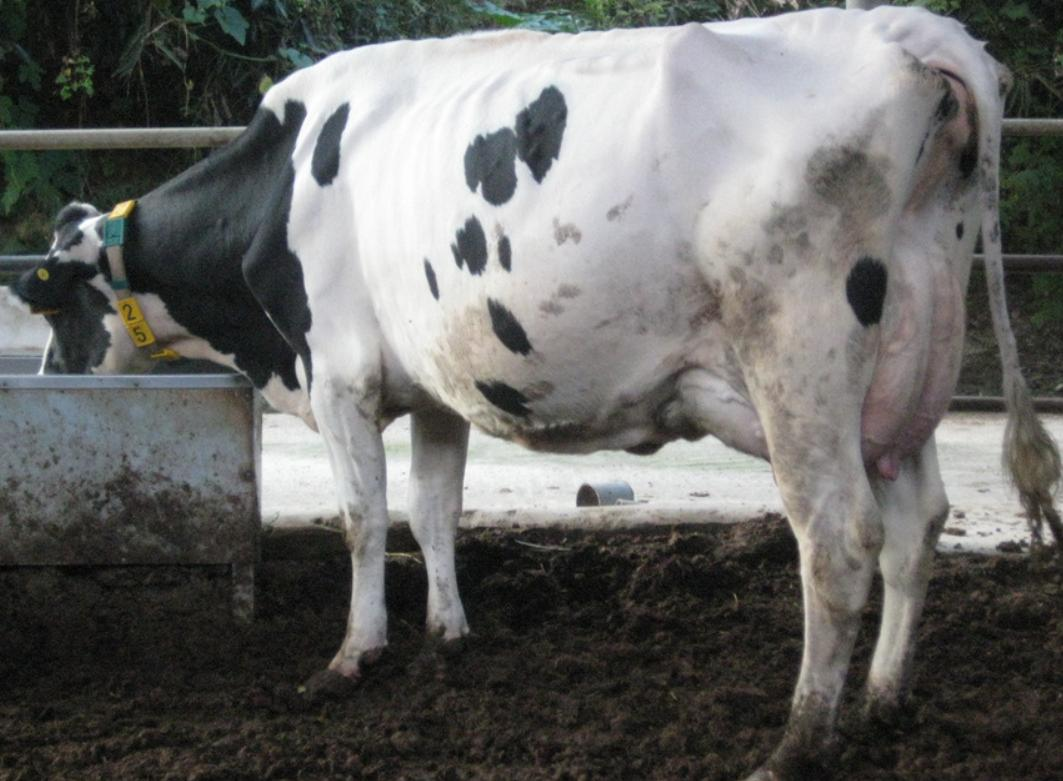cow: (11, 9, 1003, 781)
